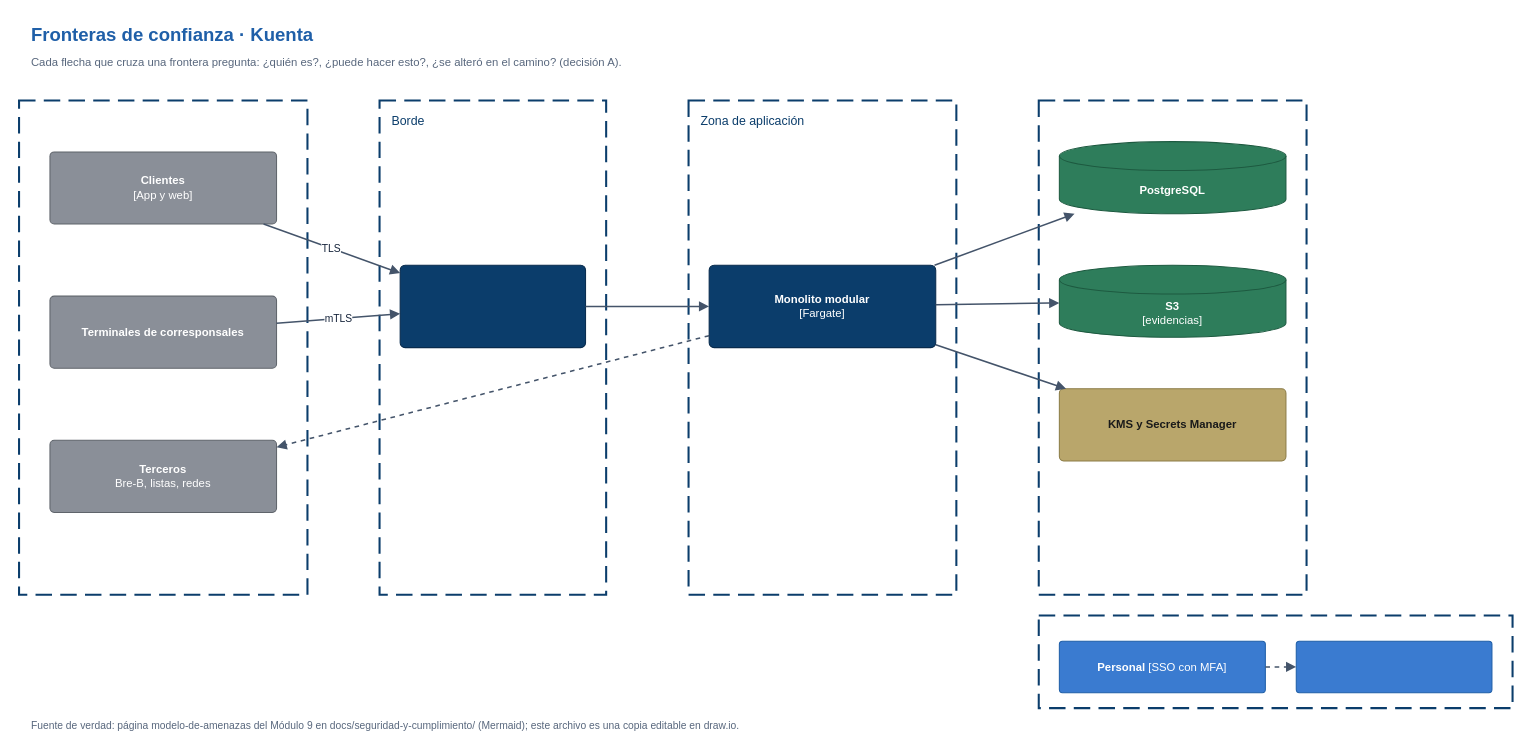
The diagram is 1531 pixels wide and 755 high, and some of its shapes have lost their labels. Here are the shapes that lost their labels. From the top down, the box of each, then its label:
(399, 264, 586, 348): WAF y API Gateway
(18, 99, 308, 595): Zona no confiable
(1037, 99, 1307, 595): Zona de datos
(1037, 614, 1513, 709): Plano de administración
(1295, 640, 1492, 693): Cuenta AWS [CloudTrail]
